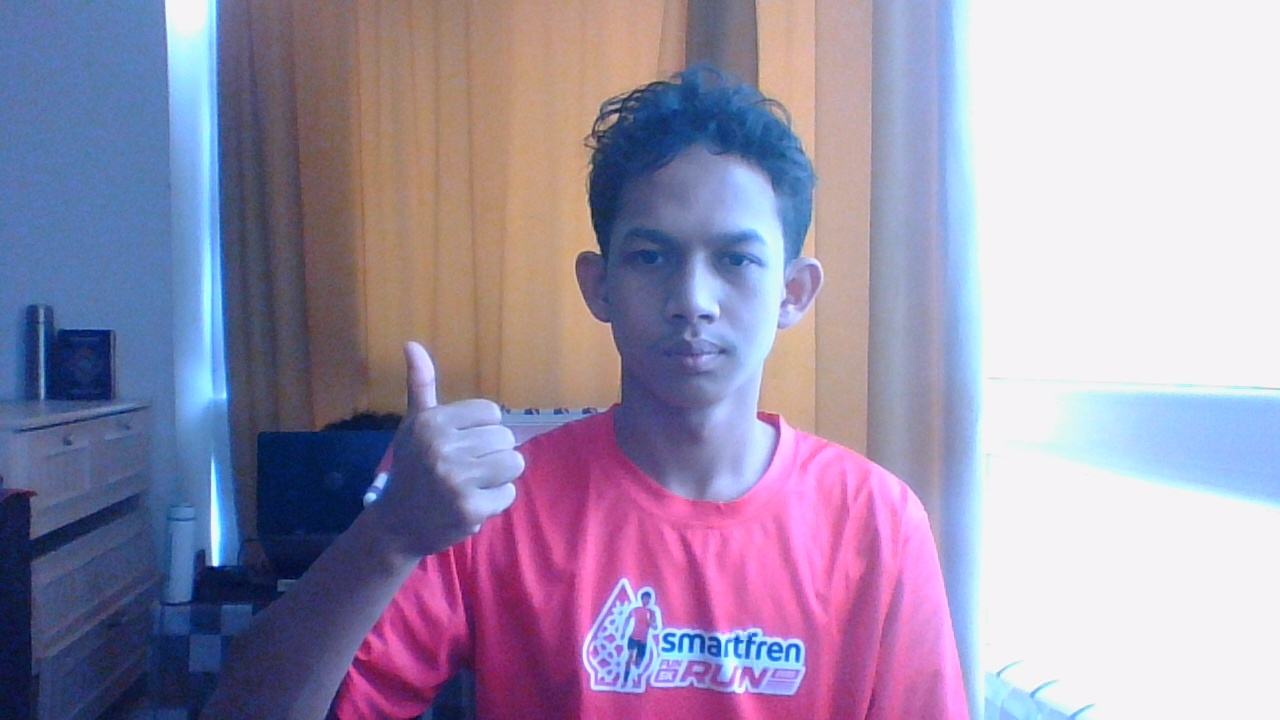good: (347, 316, 555, 564)
